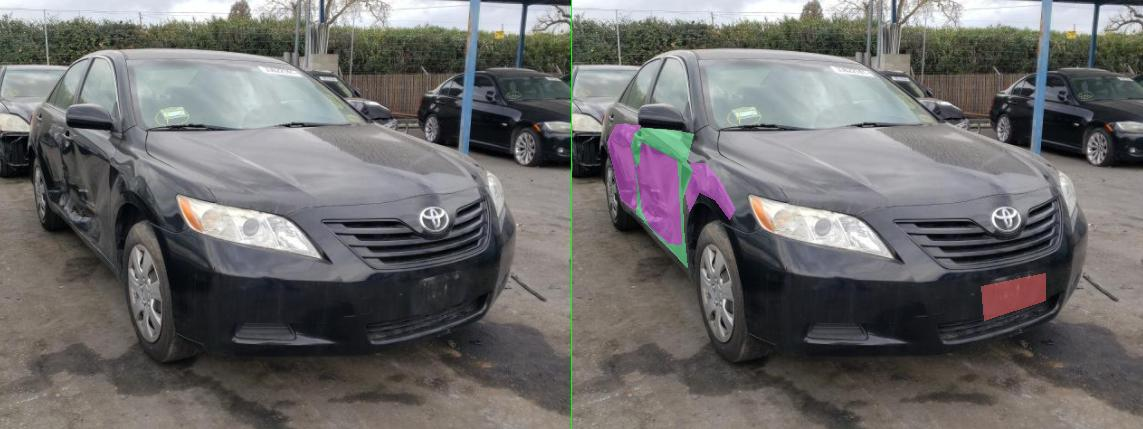Broken part: (118, 128, 242, 267)
Dent: (128, 142, 218, 244), (222, 163, 326, 219), (70, 124, 136, 211)
Missing part: (819, 273, 947, 320)
Scratch: (128, 199, 186, 222), (94, 123, 128, 148), (152, 140, 198, 154), (164, 230, 192, 242), (292, 187, 306, 204), (172, 201, 190, 212), (116, 198, 130, 206), (156, 188, 178, 193), (228, 161, 242, 167), (106, 190, 122, 192), (254, 165, 260, 167)
